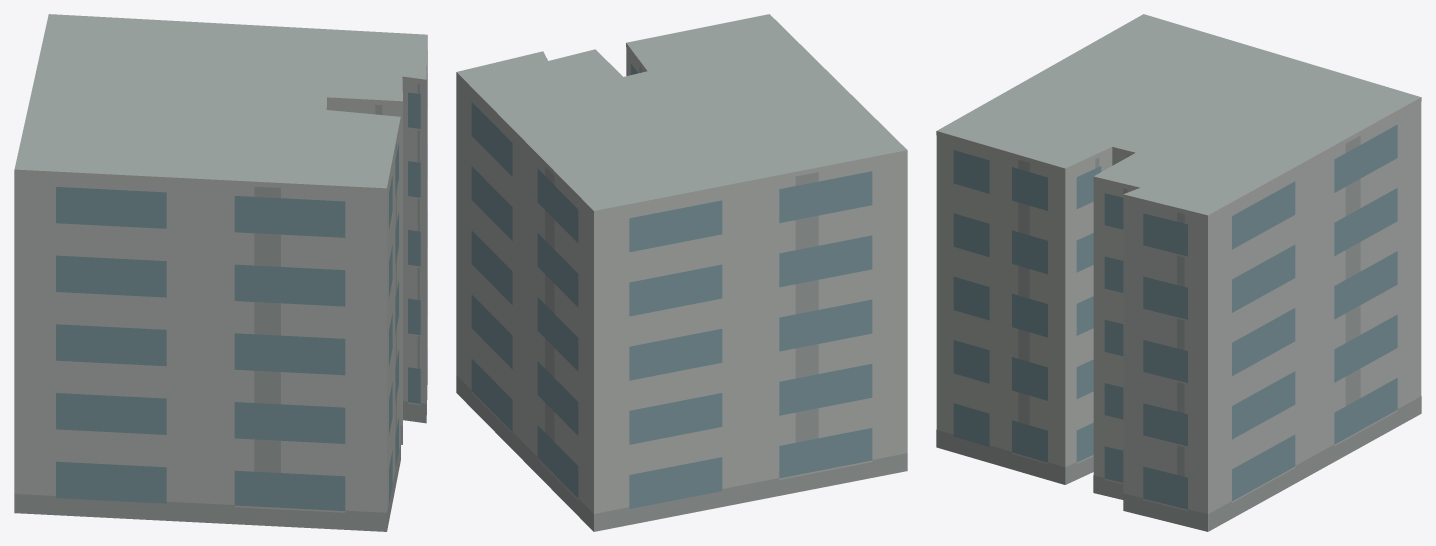
File: survey-upis-32498161.glb
The picture shows the model from 3 angles, left to right: view 1: azimuth 30°, elevation 25°; view 2: azimuth 150°, elevation 25°; view 3: azimuth 270°, elevation 25°; orthographic projection. The views are drawn at different scales.
Parts seen in each view (by area): view 1: survey-upis-32498161.tmp; view 2: survey-upis-32498161.tmp; view 3: survey-upis-32498161.tmp.
Part boxes in pixels (x1,y1,x2,y2): survey-upis-32498161.tmp: (14, 14, 427, 531); survey-upis-32498161.tmp: (456, 14, 907, 531); survey-upis-32498161.tmp: (936, 14, 1421, 531).
Bounding box in the file's own units: 23.07 × 16.9 × 23.47.
